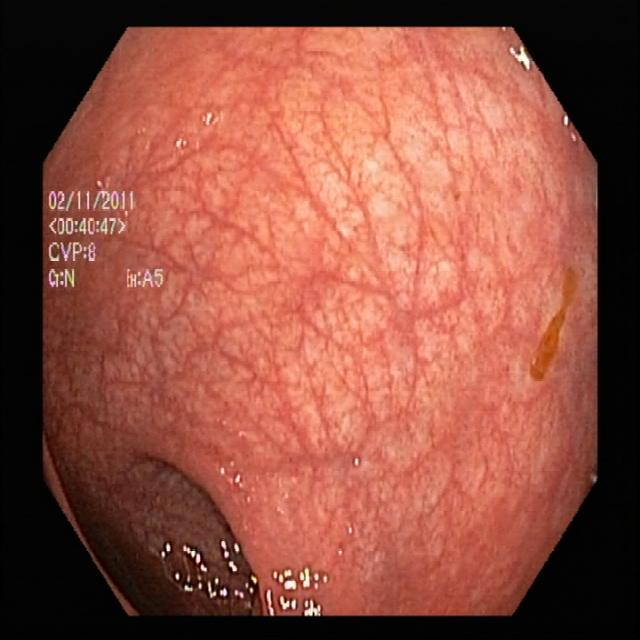ulcerative-colities: (519, 237, 600, 402)
